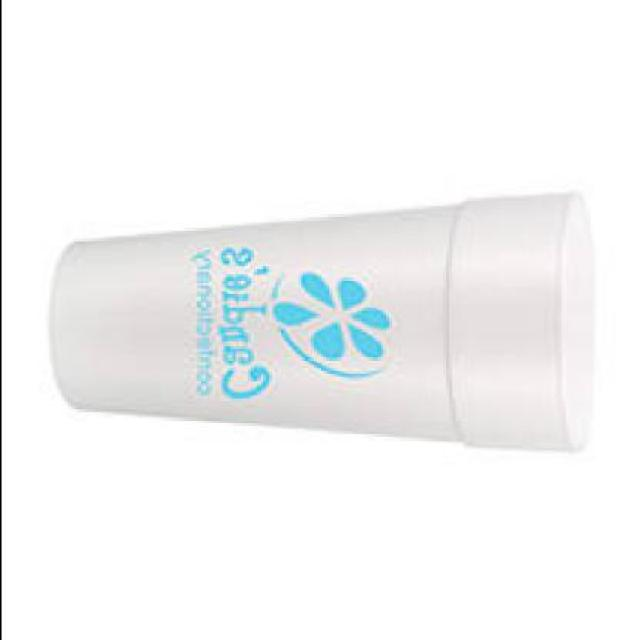PAPER: (51, 201, 595, 456)
